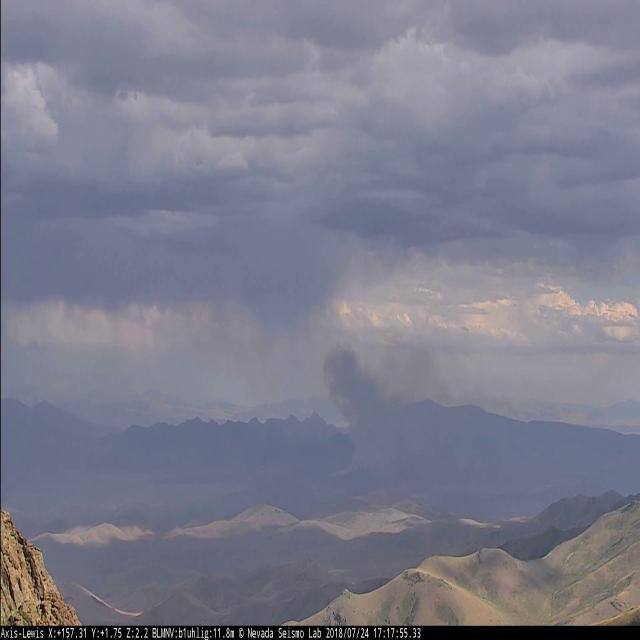smoke: (323, 328, 471, 485)
